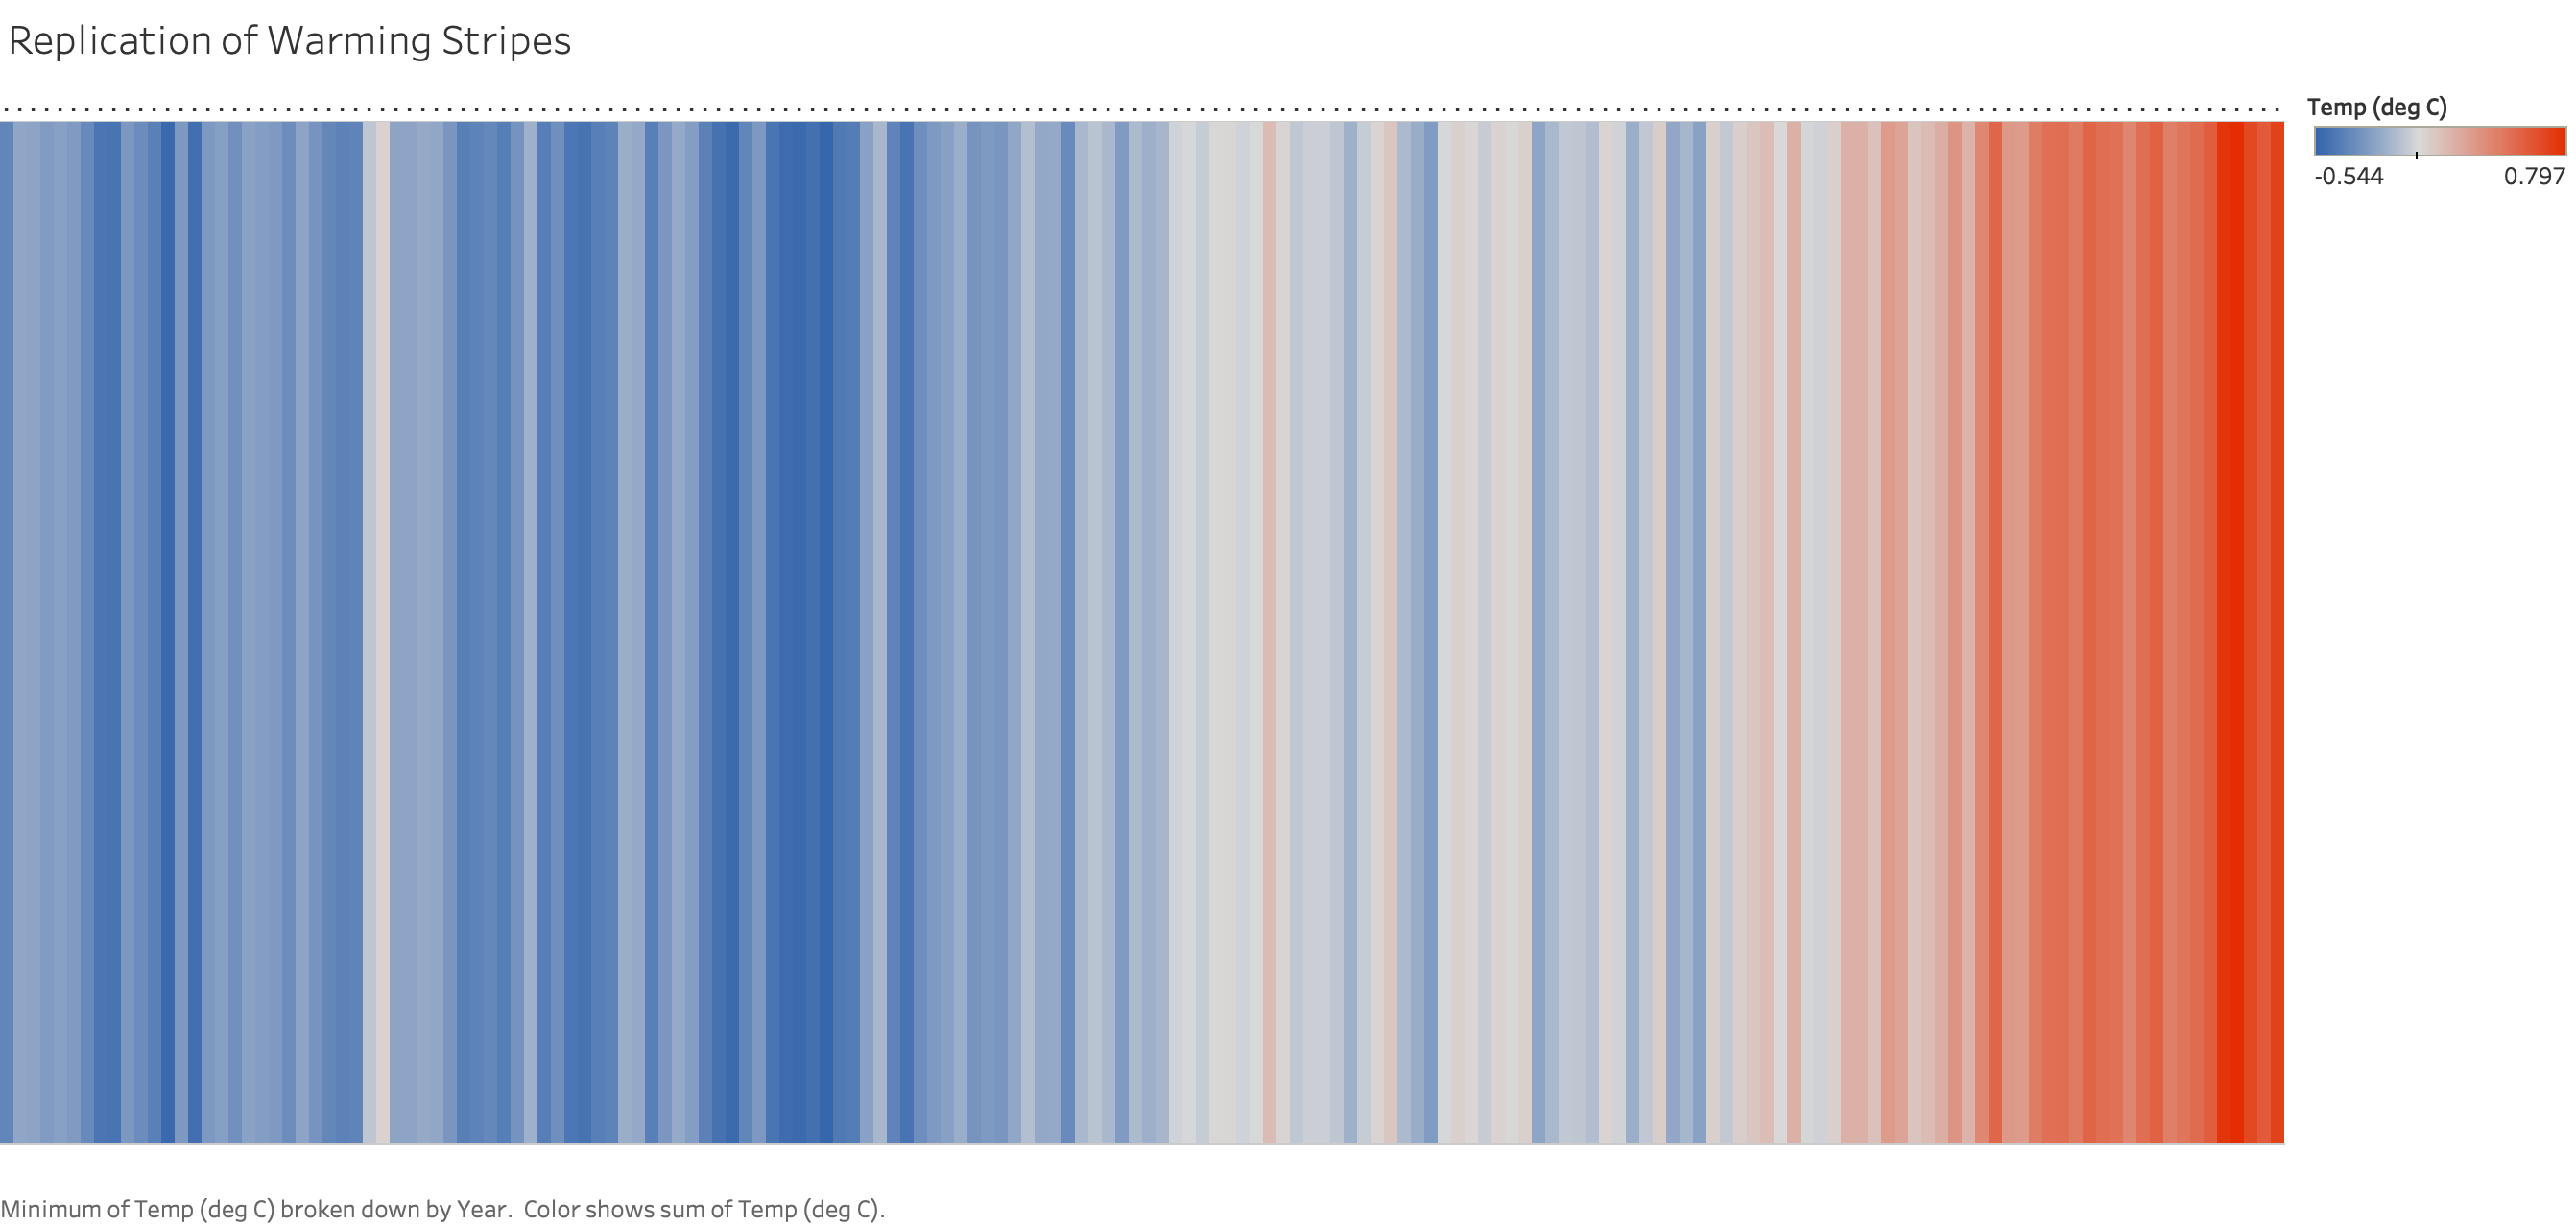

The page's visual inventory and layout, read from the dashboard file:
{"tool":"tableau","page":{"name":"Warming Stripes-Replication","canvas":[1000,1000],"units":"permille","ordinal":0},"visuals":[{"type":"worksheet","title":"Warming Stripes","mark":"Square","cols":["F1"],"box":[5.6,10.2,988.9,979.6]}]}

Visuals, with their boxes on the dashboard's canvas, which has no fixed pixel size, in thousandths of its width and height (x1, y1, x2, y2). These are canvas units, not pixel positions in the 2576x1227 screenshot, which may show the page scaled, cropped or inside an application window:
"Warming Stripes" worksheet (Square marks): {"left": 6, "top": 10, "right": 994, "bottom": 990}
